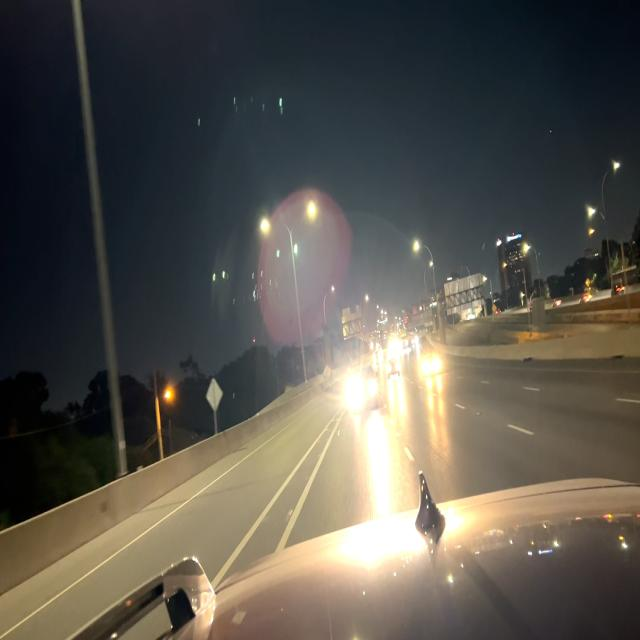back-of-sign: (445, 271, 485, 317), (340, 303, 364, 343), (206, 375, 223, 411)
